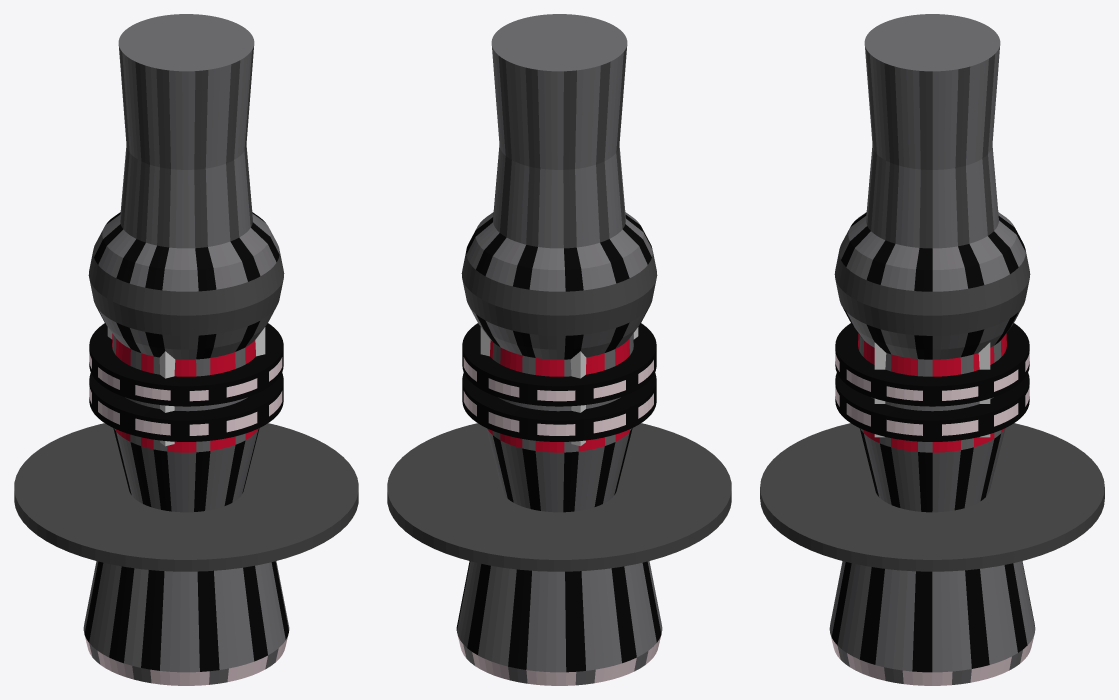
Rendered from РЕАКТОР.fbx.
3 renders of one model, left to right at view 1: azimuth 30°, elevation 25°; view 2: azimuth 150°, elevation 25°; view 3: azimuth 270°, elevation 25°, orthographic.
Visible parts, largest first — view 1: Cylinder.001, Cube; view 2: Cylinder.001, Cube; view 3: Cylinder.001, Cube.
Boxes of the visible parts, bbox=[...] form: Cylinder.001: bbox=[14, 14, 358, 685]; Cube: bbox=[107, 327, 265, 446]; Cylinder.001: bbox=[387, 14, 731, 685]; Cube: bbox=[480, 327, 638, 446]; Cylinder.001: bbox=[760, 14, 1104, 685]; Cube: bbox=[874, 342, 990, 437].
Bounding box in the file's own units: 598 × 1150 × 598.
